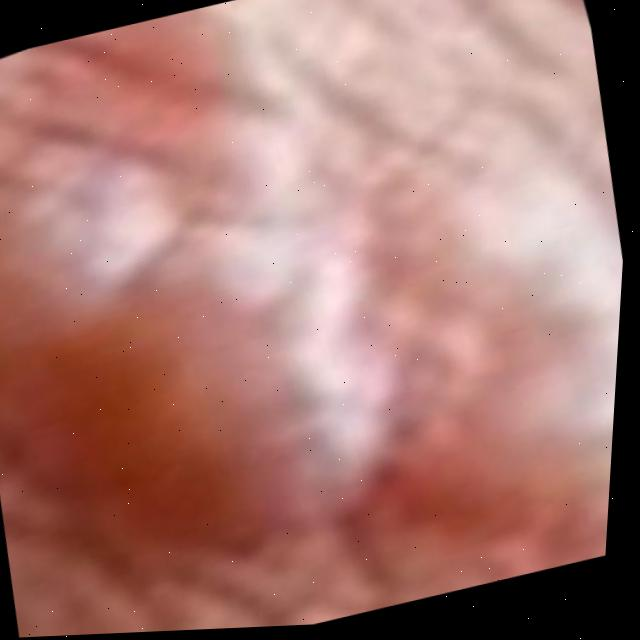Eczema: (0, 72, 424, 571), (395, 169, 628, 503)
